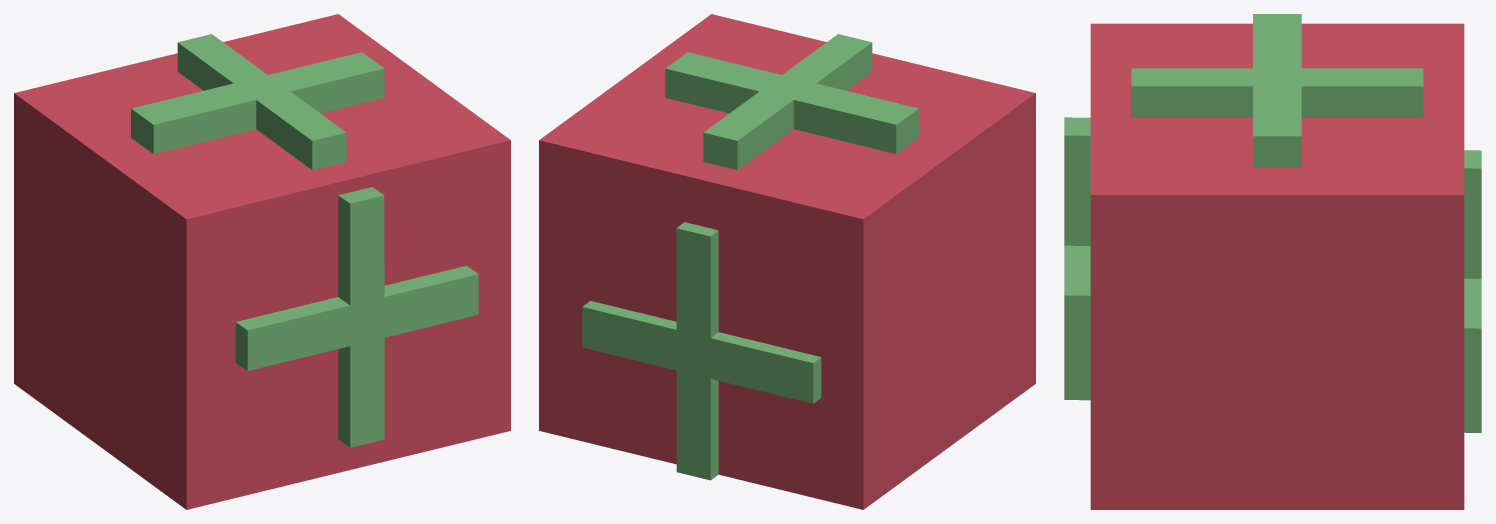
File: plus.glb
The picture shows the model from 3 angles, left to right: view 1: azimuth 30°, elevation 25°; view 2: azimuth 150°, elevation 25°; view 3: azimuth 270°, elevation 25°; orthographic projection. The views are drawn at different scales.
Parts seen in each view (by area): view 1: Mesh_Mesh_head_geo.001_lambert2SG.001; view 2: Mesh_Mesh_head_geo.001_lambert2SG.001; view 3: Mesh_Mesh_head_geo.001_lambert2SG.001.
Part boxes in pixels (box(x1,y1,x2,y2)): Mesh_Mesh_head_geo.001_lambert2SG.001: box(14, 14, 510, 509); Mesh_Mesh_head_geo.001_lambert2SG.001: box(539, 14, 1035, 509); Mesh_Mesh_head_geo.001_lambert2SG.001: box(1064, 14, 1481, 509).
Bounding box in the file's own units: 0.139 × 0.131 × 0.143.
